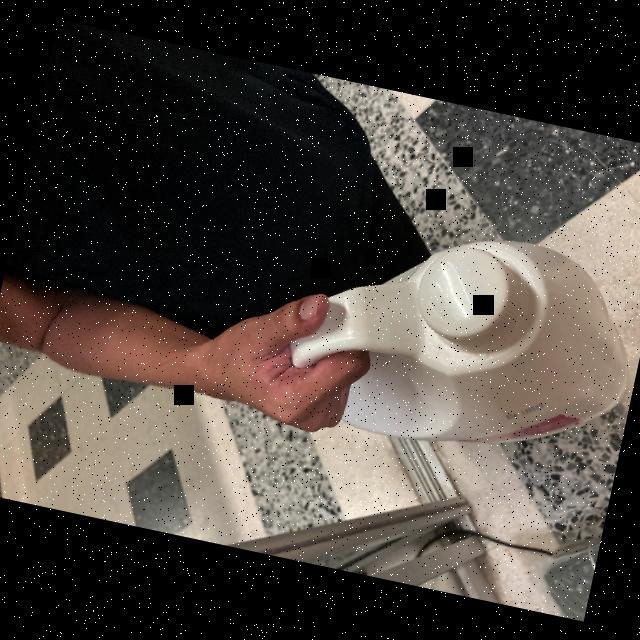chemical_plastic_gallon: (267, 197, 640, 486)
